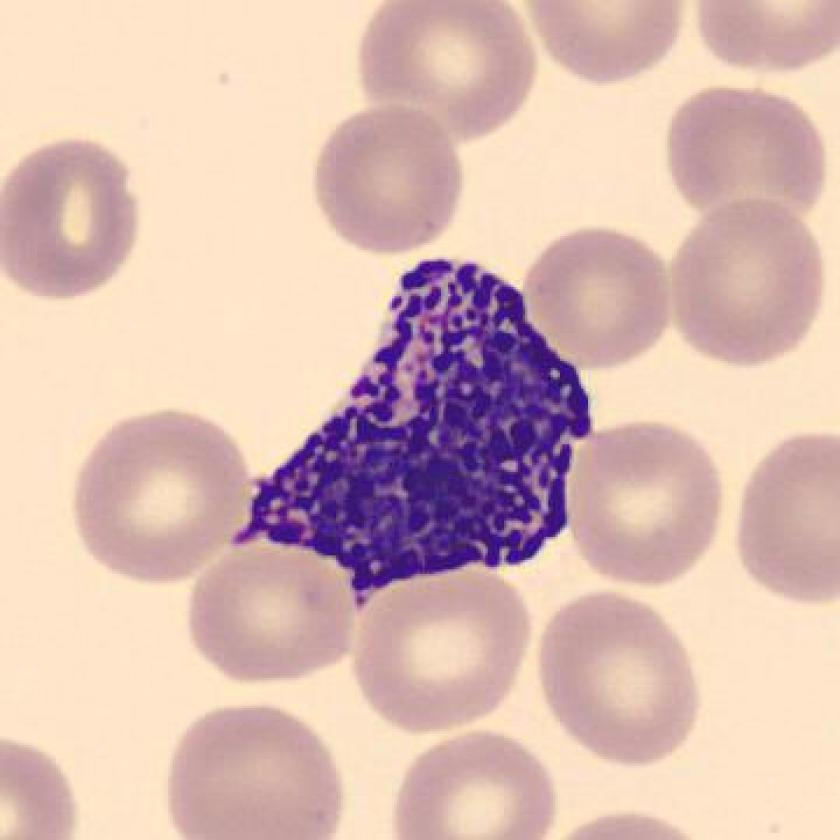basophil: (246, 253, 591, 577)
